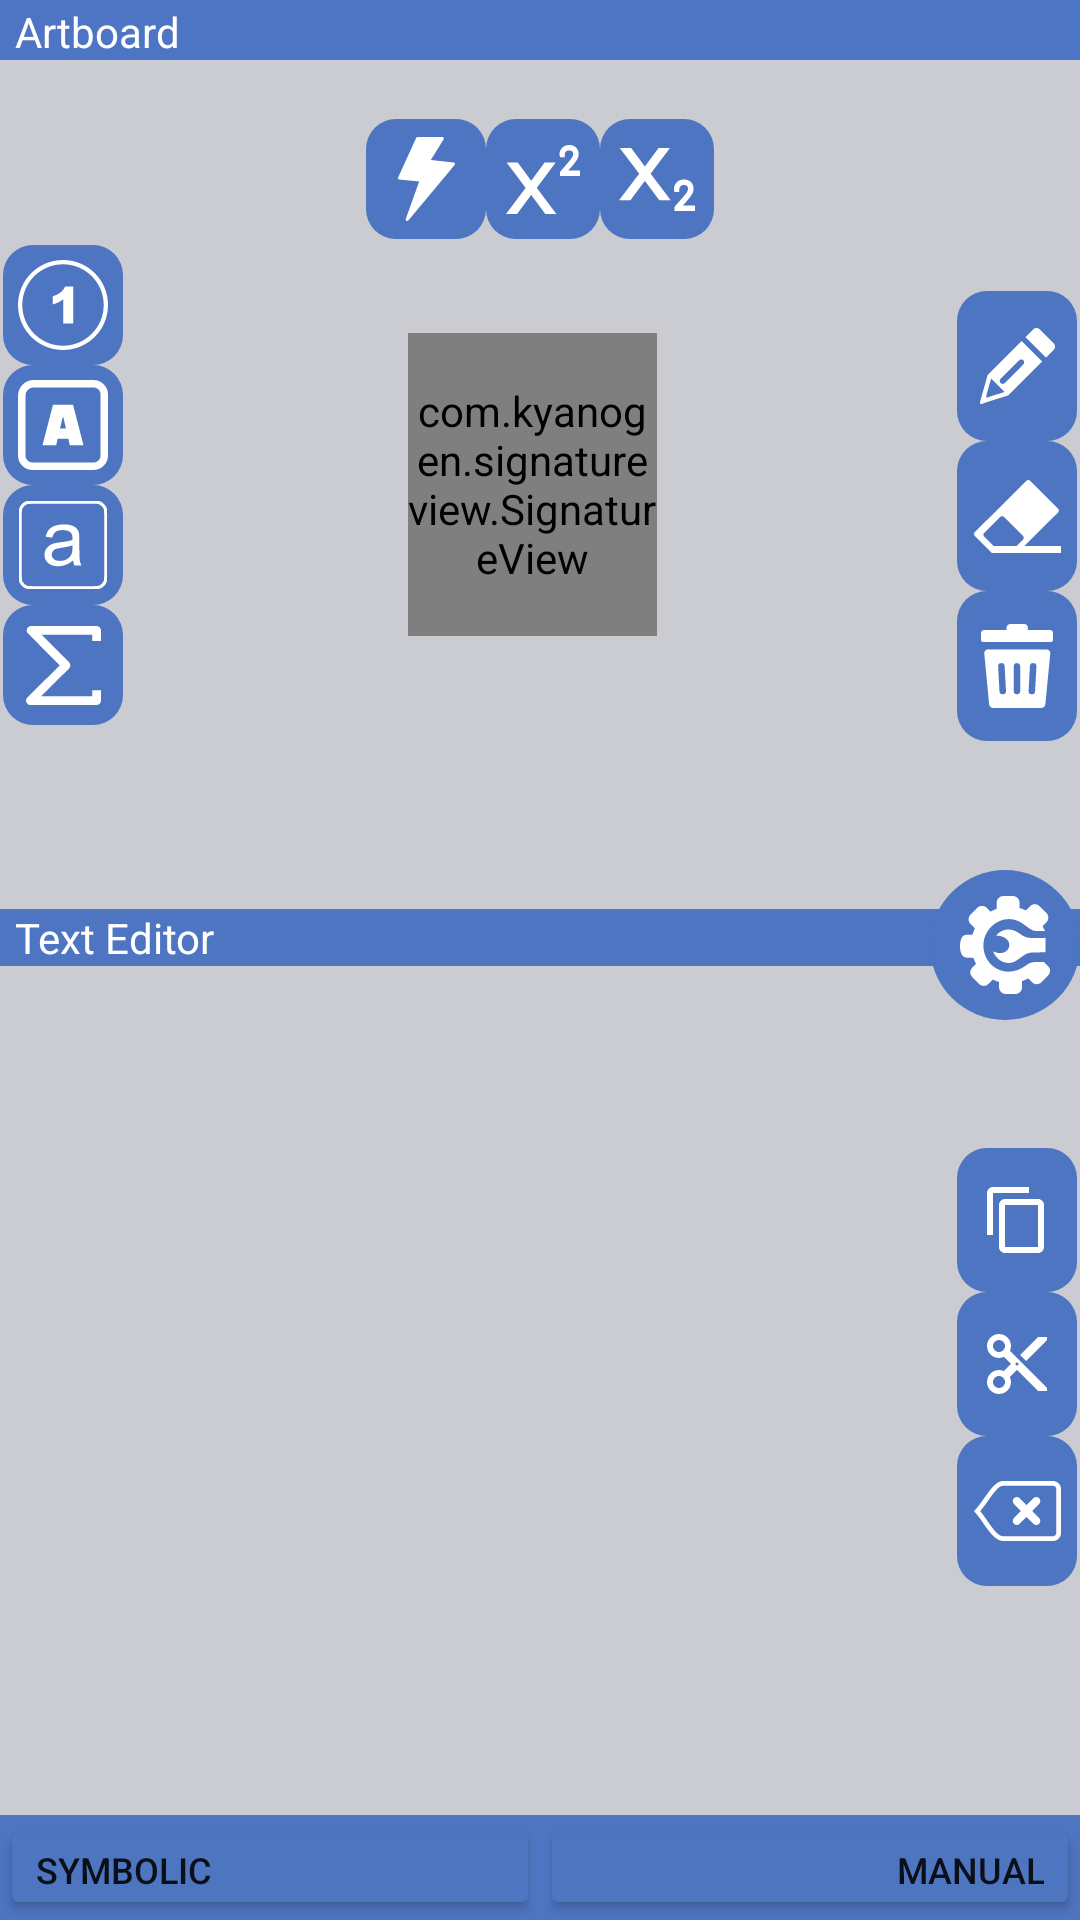

Icon click points for this 1080 × 1920 phone screenshot, format (x,y):
alphabet: (63,425)
backspace: (1017,1511)
copy: (1017,1220)
customizable: (1005,945)
cut: (1017,1364)
delete: (1017,666)
draw: (1017,366)
erase: (1017,516)
flash thunder: (426,179)
number one: (63,305)
sigma sum: (63,665)
smaller: (63,545)
subscript: (657,179)
superscript: (543,179)
